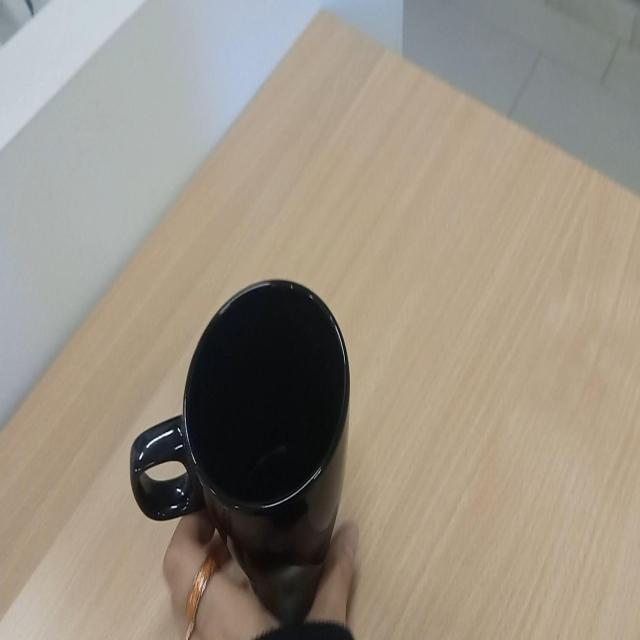cup: (110, 290, 381, 598)
